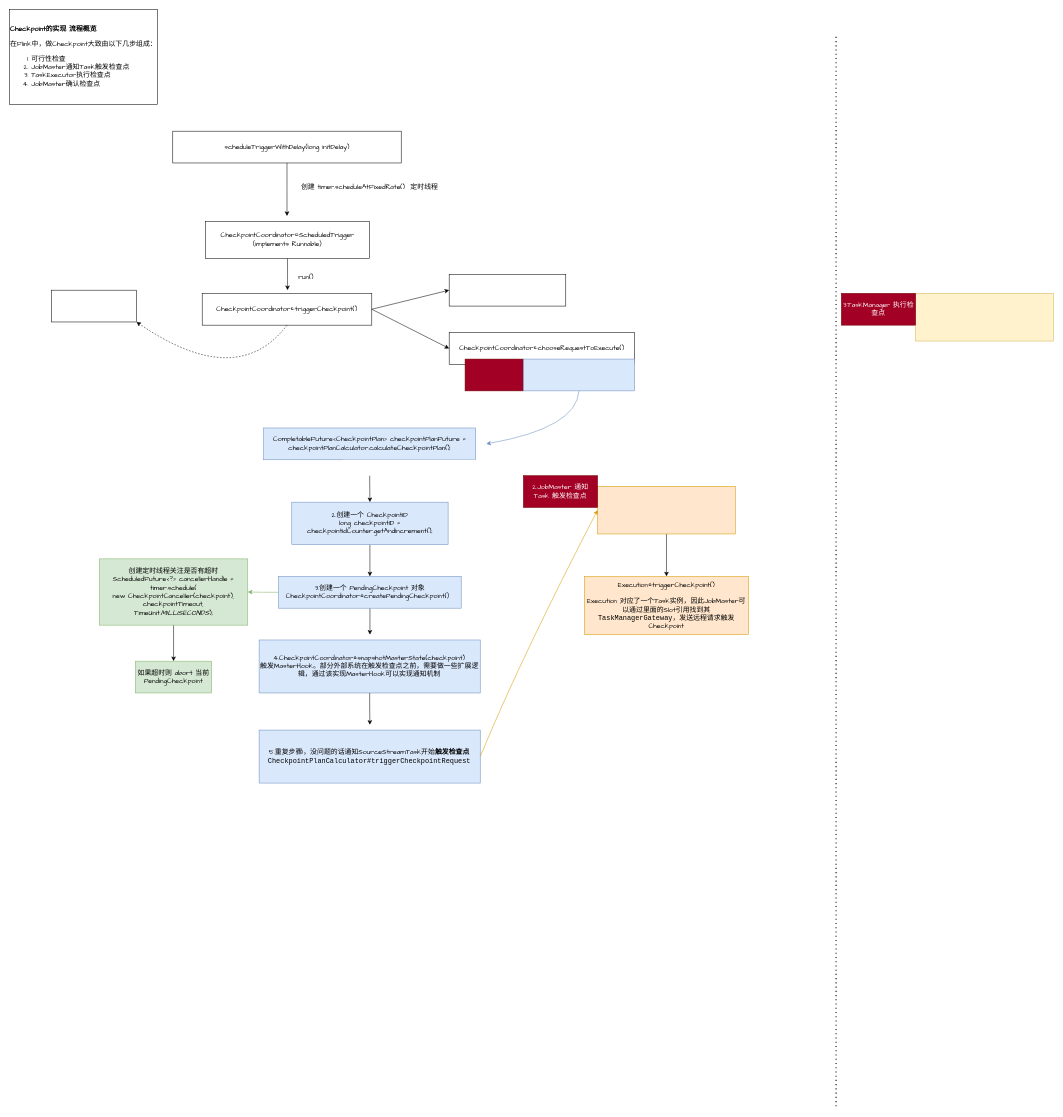
Image size: 1063x1117. Some labels were removed from this diagram. The shapes that lost their labels are listed below. From the top down, each one's centre as x and y in pixels, then its label:
At point 93,306: "CompletableFuture".
At point 507,290: "CheckpointTriggerRequest()".
At point 984,317: "Task#triggerCheckpointBarrier()".
At point 494,375: "1.可行性检查".
At point 579,375: "startTriggeringCheckpoint()".
At point 409,467: "1.确保作业不是处于关闭中或未启动的状态".
At point 666,510: "CheckpointCoordinator#triggerTasks()".
